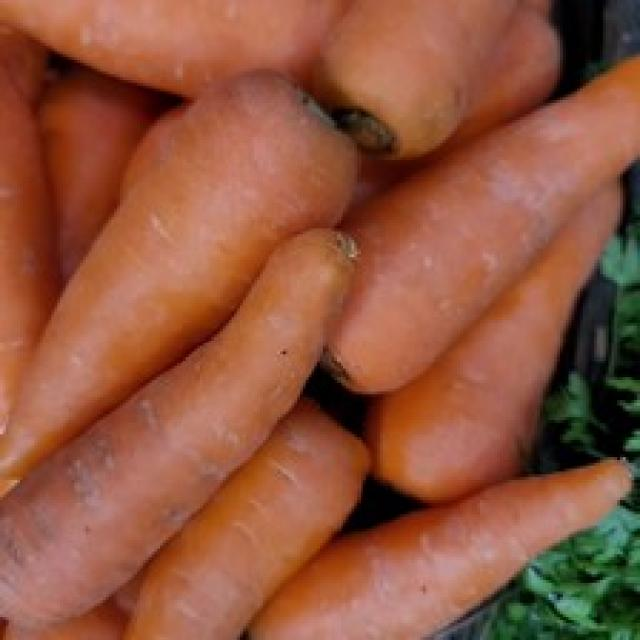Fresh_Carrot: (0, 73, 200, 469), (382, 172, 640, 250)
